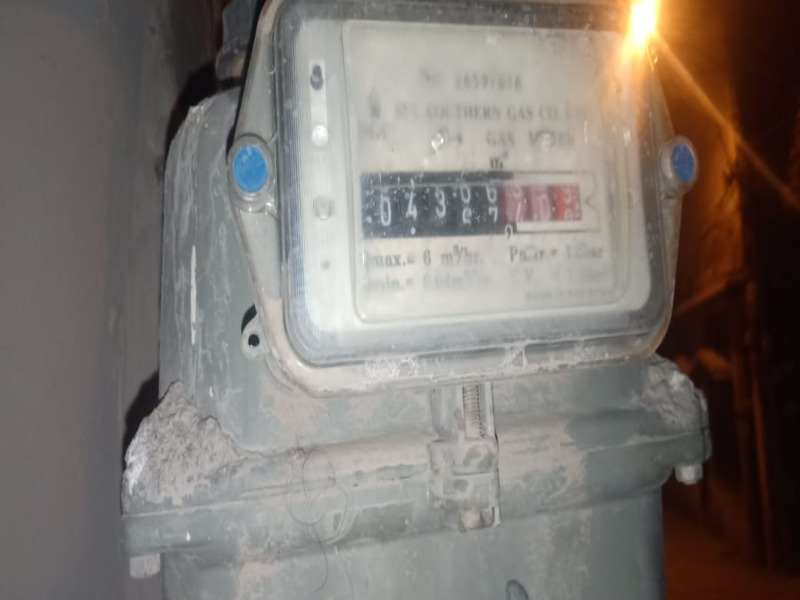ssgc: (364, 173, 588, 234)
